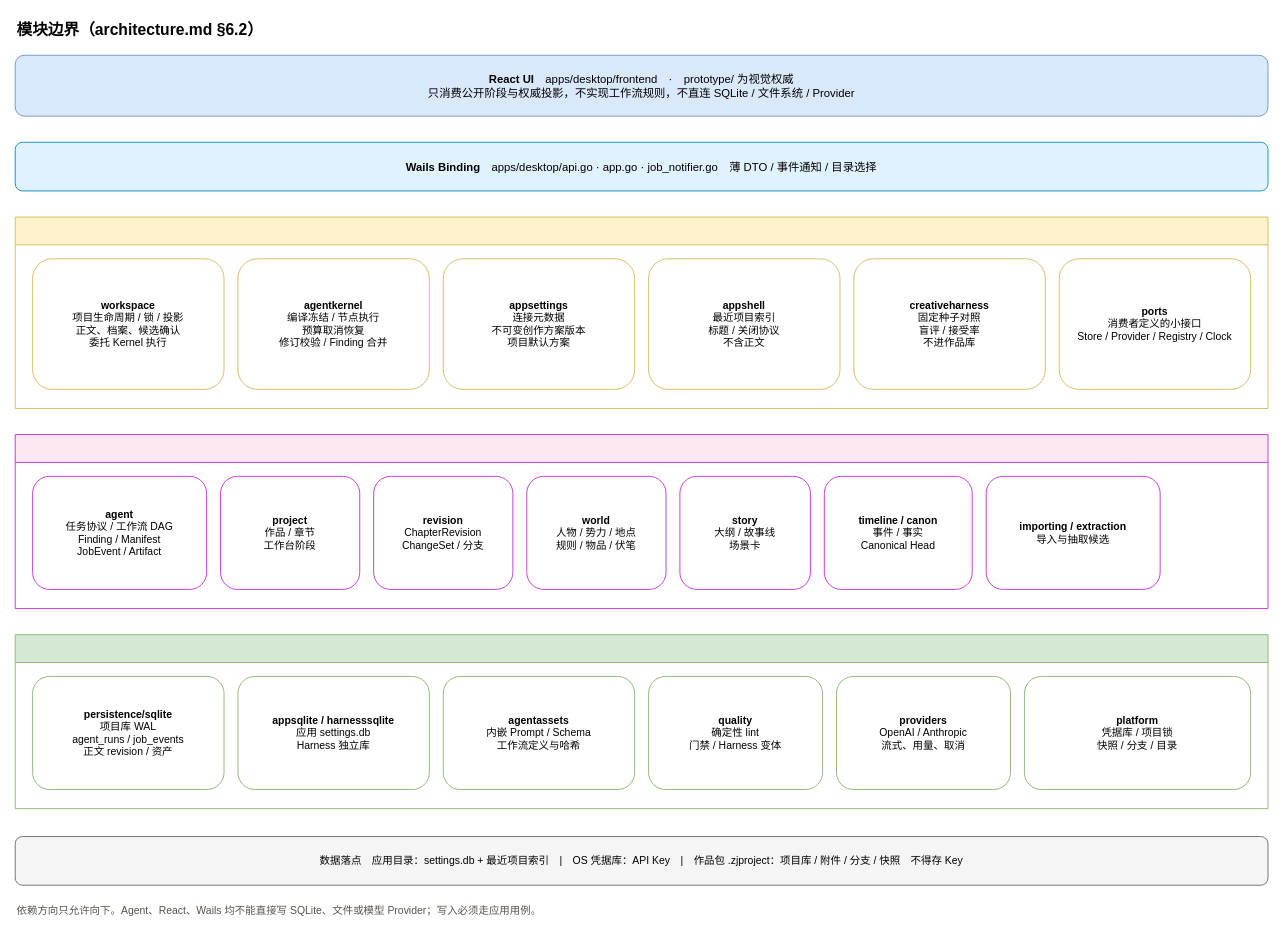
This 1283x938 diagram has some shape labels left out. The shapes that lost their labels are listed below. From the top down, each one's box as (x1, y1, x2, y2) in pixels, then its label:
(14, 216, 1268, 408): 应用层 Use Cases
(14, 434, 1268, 609): 领域层 Domain（不依赖 Wails / React / 具体 Provider）
(14, 634, 1268, 809): 适配器层 Persistence / Runtime / Provider / Platform
